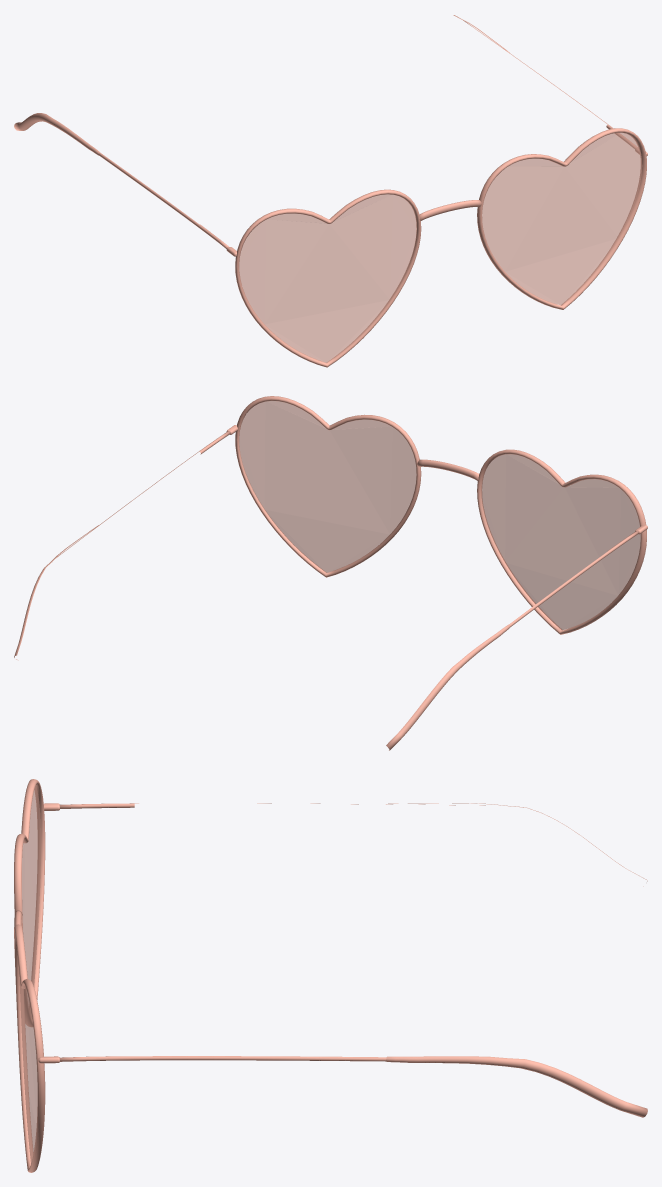
The model's file is oculos_004.glb.
The picture shows the model from 3 angles, top to bottom: view 1: azimuth 30°, elevation 25°; view 2: azimuth 150°, elevation 25°; view 3: azimuth 270°, elevation 25°; orthographic projection. The views are drawn at different scales.
Parts seen in each view (by area): view 1: Circle.002, Cylinder, Cylinder.001, BezierCurve.001; view 2: Circle.002, Cylinder, BezierCurve.001, Cylinder.001; view 3: Cylinder, Circle.002, BezierCurve.001, Cylinder.001.
Part boxes in pixels (x1,y1,x2,y2): Circle.002: [239, 132, 642, 362]; Cylinder: [235, 128, 646, 367]; Cylinder.001: [98, 20, 637, 248]; BezierCurve.001: [14, 15, 509, 155]; Circle.002: [239, 401, 640, 629]; Cylinder: [235, 396, 646, 634]; BezierCurve.001: [14, 525, 510, 750]; Cylinder.001: [56, 431, 638, 626]; Cylinder: [14, 779, 45, 1172]; Circle.002: [19, 786, 40, 1163]; BezierCurve.001: [386, 803, 647, 1117]; Cylinder.001: [59, 803, 485, 1061].
Size of the model in its own units: 9.57 by 3.72 by 10.
